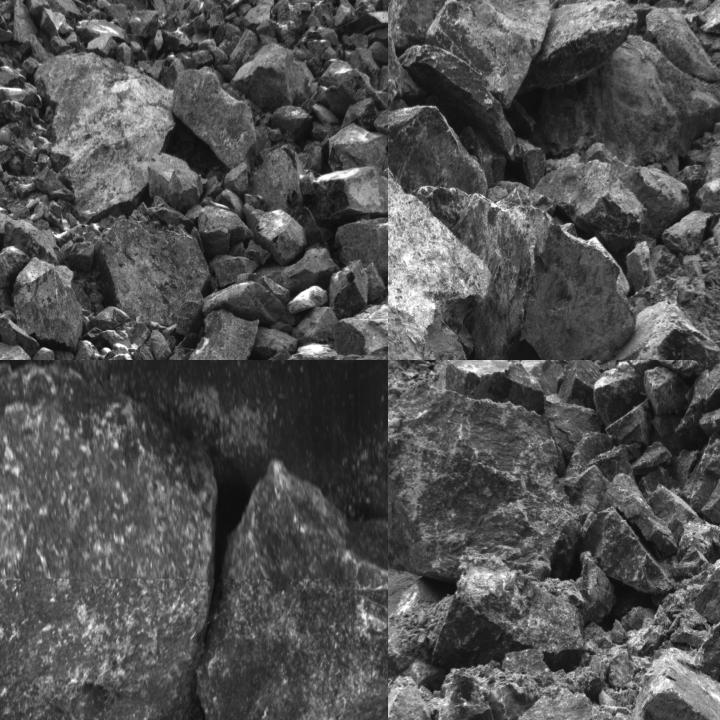stone: (0, 360, 216, 719), (196, 457, 387, 719), (388, 381, 587, 579), (388, 45, 489, 359), (397, 0, 576, 158), (40, 54, 181, 214), (502, 190, 634, 359), (544, 38, 719, 165), (423, 186, 533, 359), (432, 554, 585, 671), (99, 206, 209, 321), (521, 0, 635, 98), (537, 160, 644, 249), (388, 107, 489, 195), (172, 66, 259, 166), (578, 506, 672, 593), (599, 652, 719, 719), (13, 256, 82, 352), (237, 38, 319, 110), (611, 305, 719, 359), (440, 360, 545, 413), (426, 670, 528, 719), (388, 0, 473, 57), (313, 168, 387, 230), (388, 7, 426, 119), (334, 283, 387, 359), (335, 214, 387, 286), (185, 310, 260, 359), (250, 148, 304, 216), (544, 392, 600, 456), (203, 280, 284, 323), (148, 153, 204, 213), (252, 210, 308, 266), (687, 432, 719, 518), (281, 242, 336, 292), (329, 126, 387, 172), (326, 260, 370, 317), (644, 368, 690, 417), (666, 208, 714, 254), (695, 555, 719, 635), (293, 304, 335, 346), (210, 255, 260, 290), (0, 314, 39, 356), (270, 107, 311, 146), (624, 360, 703, 379), (0, 246, 30, 291), (176, 288, 203, 335), (255, 327, 298, 354), (222, 162, 250, 197), (285, 343, 337, 359), (0, 341, 39, 359), (701, 0, 719, 36), (372, 103, 387, 145)
